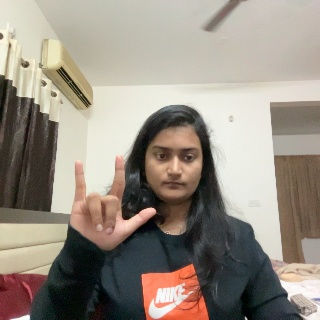I Love You: (69, 155, 160, 261)
